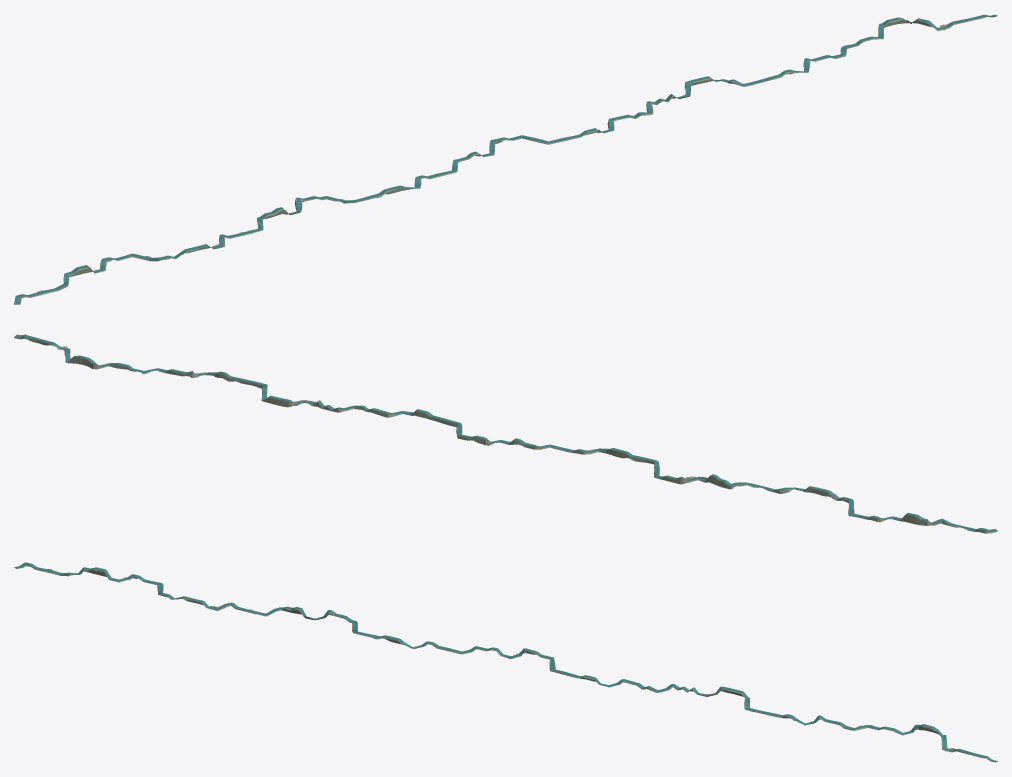
File: river.glb
3 views of the same model, one above another, from view 1: azimuth 30°, elevation 25°; view 2: azimuth 150°, elevation 25°; view 3: azimuth 330°, elevation 25° (orthographic). The views are drawn at different scales.
Bounding box in the file's own units: 358 × 2.94 × 40.68.
